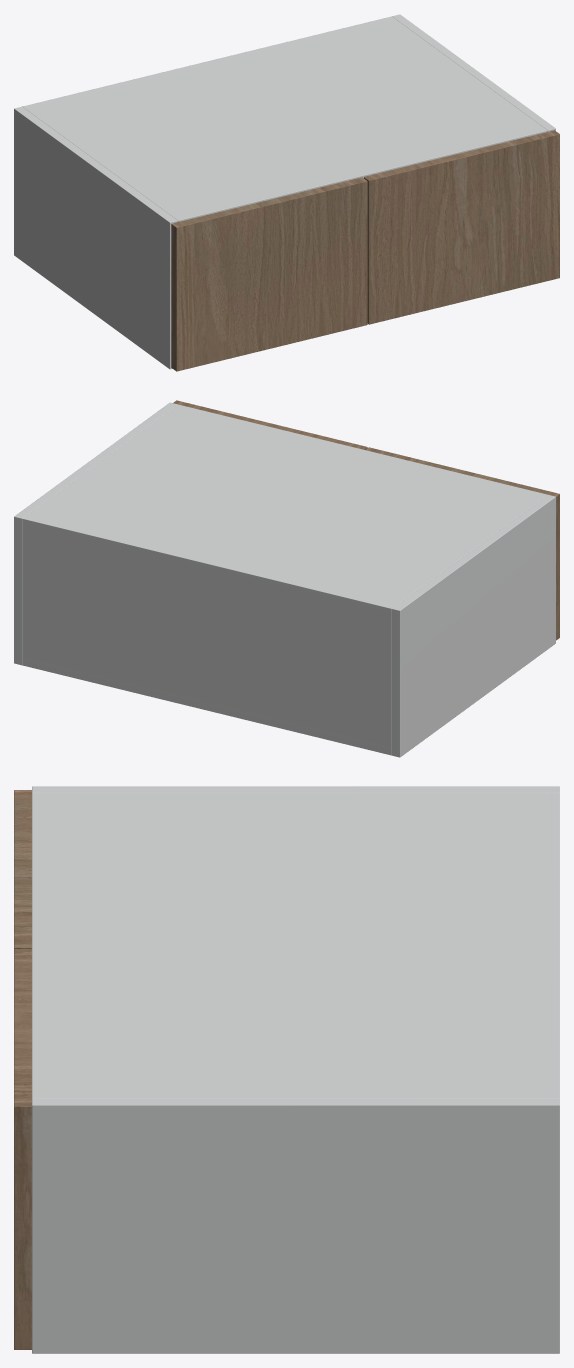
File: oppein-ply-mnw-w331224.glb
3 renders of one model, top to bottom at view 1: azimuth 30°, elevation 25°; view 2: azimuth 150°, elevation 25°; view 3: azimuth 270°, elevation 25°, orthographic. The views are drawn at different scales.
Parts seen in each view (by area): view 1: Cabinet top, Door, Door.001, Cabinet side, Cabinet side.001, Cabinet back; view 2: Cabinet top, Cabinet back, Cabinet side, Cabinet side.001, Cabinet bottom, Door, Door.001; view 3: Cabinet top, Cabinet side.001, Door.001, Cabinet side, Cabinet back, Door.
Boxes of the visible parts, x1,y1,x2,y2 form: Cabinet top: (23, 17, 547, 221); Door: (171, 177, 367, 371); Door.001: (364, 130, 559, 324); Cabinet side: (14, 106, 177, 369); Cabinet side.001: (392, 14, 555, 131); Cabinet back: (22, 16, 394, 108); Cabinet top: (22, 404, 547, 616); Cabinet back: (22, 516, 394, 755); Cabinet side: (392, 494, 555, 757); Cabinet side.001: (14, 402, 177, 665); Cabinet bottom: (22, 657, 391, 755); Door: (365, 447, 559, 640); Door.001: (173, 400, 367, 449); Cabinet top: (32, 793, 559, 1098); Cabinet side.001: (32, 1098, 559, 1353); Door.001: (14, 949, 31, 1349); Cabinet side: (32, 786, 559, 793); Cabinet back: (549, 793, 559, 1098); Door: (14, 790, 31, 948).
Size of the model in its own units: 0.8382 by 0.3048 by 0.6064.
Materials: 2 (1 with a texture image).
